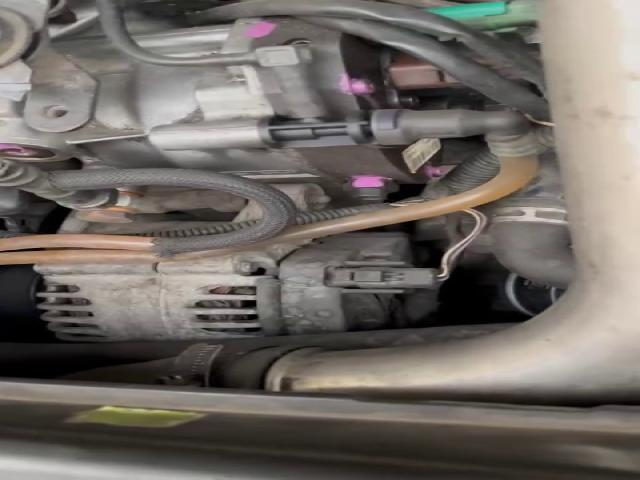alternator: (38, 220, 446, 342)
high_pressure_pump: (24, 17, 447, 212)
